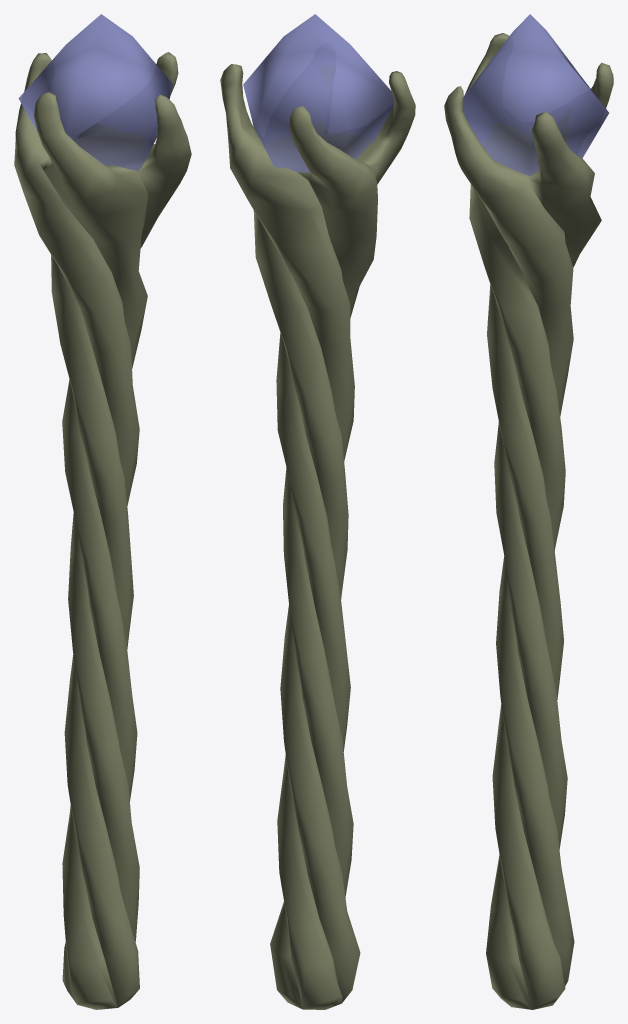
File: Staff.fbx
3 views of the same model, side by side, from view 1: azimuth 30°, elevation 25°; view 2: azimuth 150°, elevation 25°; view 3: azimuth 270°, elevation 25° (orthographic).
Visible parts, largest first — view 1: staff_main, Cristal; view 2: staff_main, Cristal; view 3: staff_main, Cristal.
Boxes of the visible parts, x1,y1,x2,y2 form: staff_main: (14, 52, 191, 1009); Cristal: (18, 14, 173, 170); staff_main: (220, 62, 415, 1009); Cristal: (243, 14, 393, 172); staff_main: (444, 33, 613, 1009); Cristal: (462, 14, 608, 176).
Size of the model in its own units: 29.03 by 166 by 25.94.
